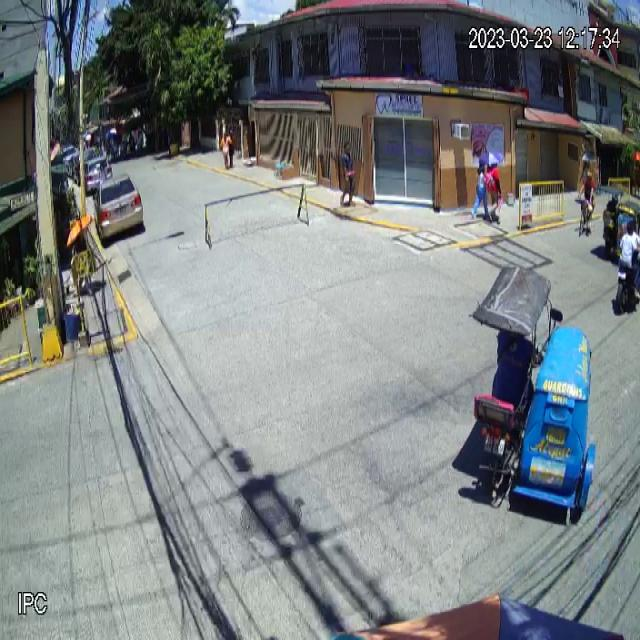Car: (94, 173, 144, 240)
Tricycle: (472, 262, 597, 525)
